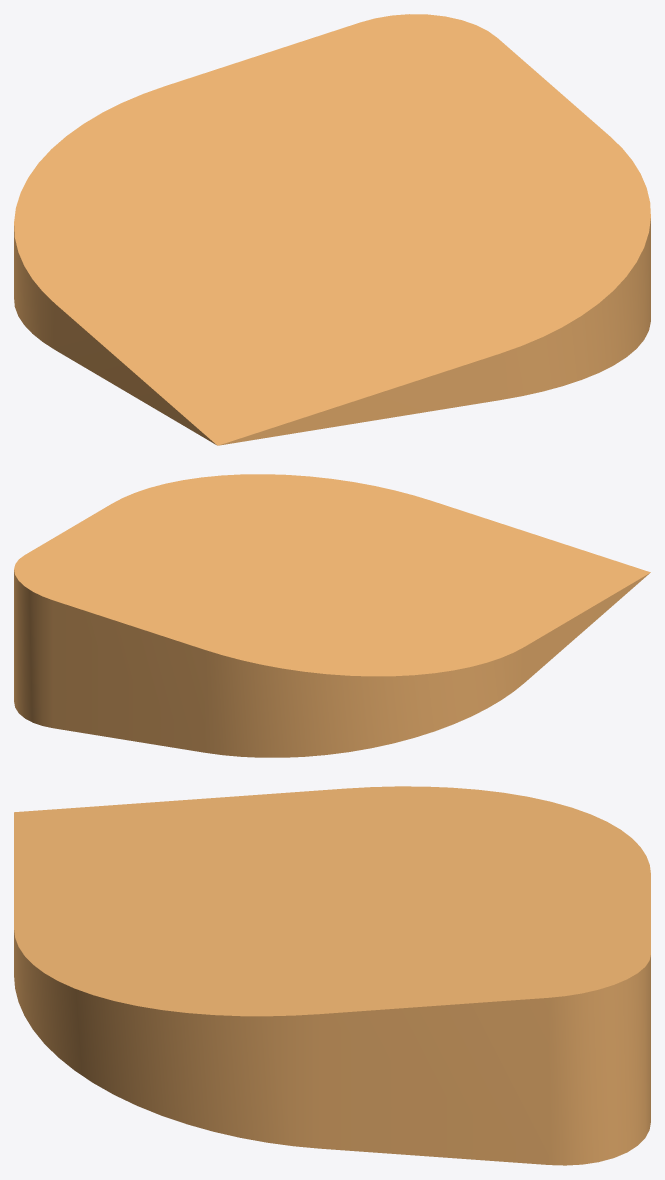
File: Proteinshape.gltf
The picture shows the model from 3 angles, top to bottom: view 1: azimuth 30°, elevation 25°; view 2: azimuth 150°, elevation 25°; view 3: azimuth 270°, elevation 25°; orthographic projection. The views are drawn at different scales.
Visible parts, largest first — view 1: Cube; view 2: Cube; view 3: Cube.
Part boxes in pixels (x1=…): Cube: x1=14, y1=14, x2=650, y2=445; Cube: x1=14, y1=474, x2=650, y2=757; Cube: x1=14, y1=786, x2=650, y2=1165.
Size of the model in its own units: 50 by 15 by 50.
